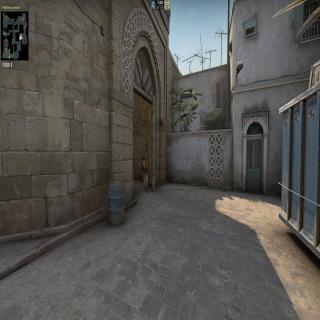T-Head: (142, 155, 146, 164)
